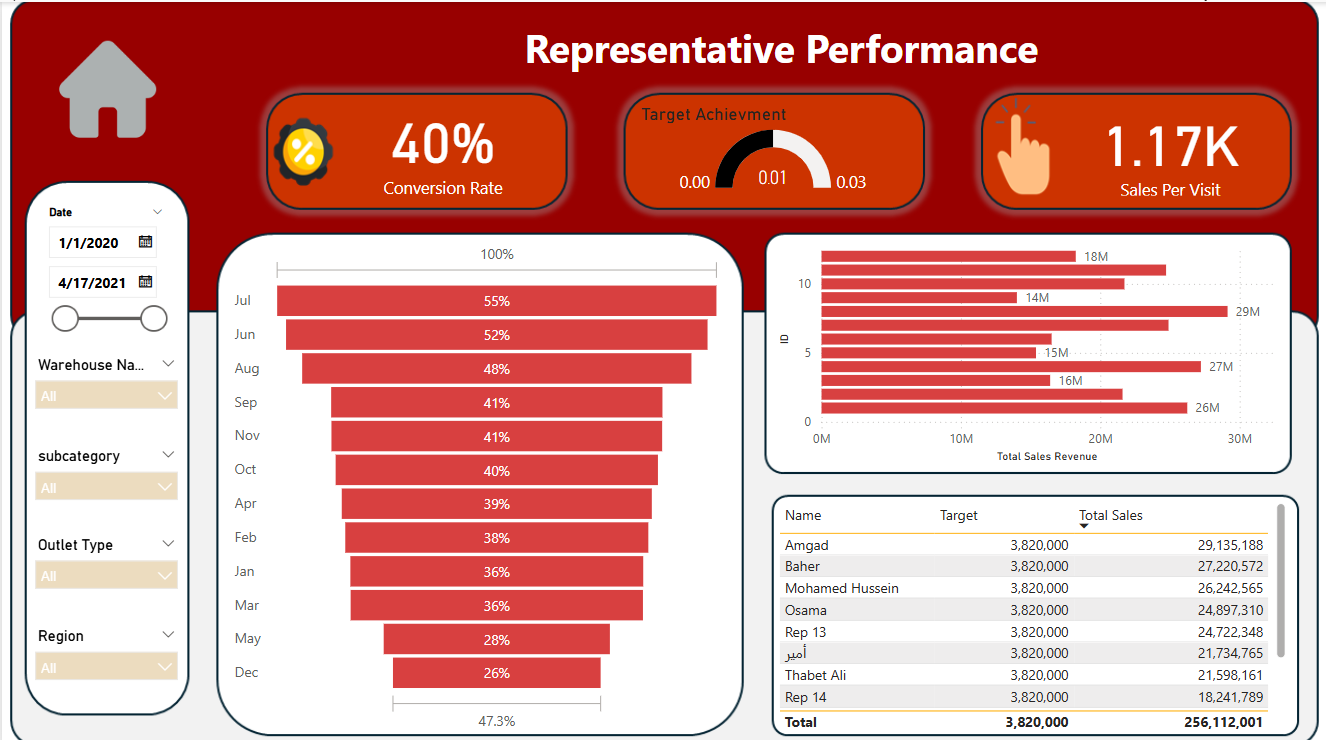

The page's visual inventory and layout, read from the dashboard file:
{"tool":"powerbi","page":{"name":"Representative Performance","canvas":[1280,720],"ordinal":3},"visuals":[{"type":"funnel","fields":{"Y":["_Measures.Conversion Rate"],"Category":["Calender.Month_name"]},"box":[219.6,226.8,480.2,482.6],"z":0},{"type":"image","box":[7.2,32.6,189.4,103.8],"z":1000},{"type":"textbox","box":[474.1,14.5,556.2,73.6],"z":2000},{"type":"gauge","fields":{"Y":["_Measures.Target Achievment"]},"box":[611.7,97.7,265.4,91.7],"z":3000},{"type":"card","fields":{"Values":["_Measures.Conversion Rate"]},"box":[300.4,88.1,250.9,105],"z":4000},{"type":"card","fields":{"Values":["_Measures.Sales Per Visit"]},"box":[1012.2,94.1,231.6,97.7],"z":5000},{"type":"clusteredBarChart","title":"Total Sales by Rep","fields":{"Y":["_Measures.Total Sales Revenue"],"Category":["Reps List.ID"]},"box":[744.4,226.8,499.5,223.2],"z":6000},{"type":"tableEx","fields":{"Values":["Reps List.Name","Sum(Targets.Target)","Sum(Sales.Total Sales)"]},"box":[744.4,479,499.5,230.4],"z":7000},{"type":"slicer","fields":{"Values":["Calender.Date"]},"box":[32.6,191.8,135.1,136.3],"z":10000},{"type":"slicer","fields":{"Values":["Warehouses.Warehouse Name"]},"box":[21.7,336.6,158,72.4],"z":11000},{"type":"slicer","fields":{"Values":["Products.subcategory"]},"box":[21.7,424.7,158,71.2],"z":12000},{"type":"slicer","fields":{"Values":["Outlets.Outlet Type"]},"box":[21.7,510.3,158,71.2],"z":13000},{"type":"slicer","fields":{"Values":["Warehouses.Region"]},"box":[21.7,598.4,158,72.4],"z":14000}]}

Visuals, with their boxes in screenshot pixels (x1, y1, x2, y2), scaled from the page's 1280x720 canvas onto the 1326x740 screenshot:
funnel - _Measures.Conversion Rate x Calender.Month_name: rect(227, 233, 725, 729)
image: rect(7, 34, 204, 140)
textbox: rect(491, 15, 1067, 91)
gauge - _Measures.Target Achievment: rect(634, 100, 909, 195)
card - _Measures.Conversion Rate: rect(311, 91, 571, 198)
card - _Measures.Sales Per Visit: rect(1049, 97, 1288, 197)
"Total Sales by Rep" clusteredBarChart: rect(771, 233, 1289, 462)
tableEx - Reps List.Name x Sum(Targets.Target): rect(771, 492, 1289, 729)
slicer - Calender.Date: rect(34, 197, 174, 337)
slicer - Warehouses.Warehouse Name: rect(22, 346, 186, 420)
slicer - Products.subcategory: rect(22, 436, 186, 510)
slicer - Outlets.Outlet Type: rect(22, 524, 186, 598)
slicer - Warehouses.Region: rect(22, 615, 186, 689)
